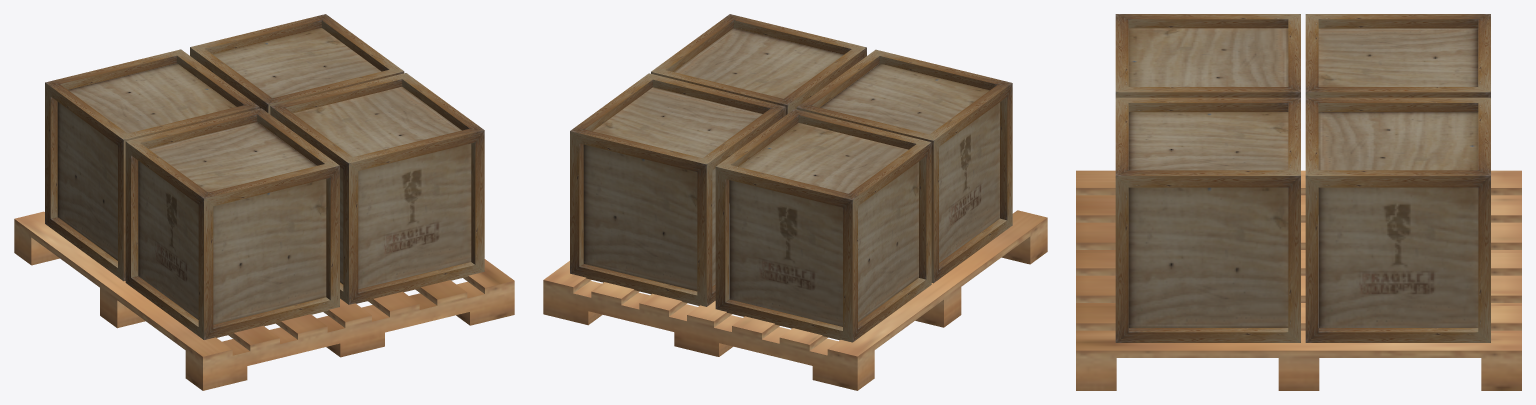
The model's file is Paleta2.fbx.
3 views of the same model, side by side, from view 1: azimuth 30°, elevation 25°; view 2: azimuth 150°, elevation 25°; view 3: azimuth 270°, elevation 25° (orthographic). The views are drawn at different scales.
Visible parts, largest first — view 1: kutu3, kutu2, kutu4, palet2, kutu; view 2: kutu4, kutu, kutu3, palet2, kutu2; view 3: kutu, kutu2, palet2, kutu3, kutu4.
Part boxes in pixels (x1,y1,x2,y2): kutu3: (125,108,339,339); kutu2: (270,73,484,304); kutu4: (45,49,259,281); palet2: (14,211,514,390); kutu: (190,14,404,114); kutu4: (715,109,931,342); kutu: (570,73,785,306); kutu3: (796,49,1012,283); palet2: (543,210,1047,390); kutu2: (651,14,866,114); kutu: (1305,97,1490,342); kutu2: (1115,97,1300,342); palet2: (1076,170,1521,390); kutu3: (1115,14,1300,97); kutu4: (1305,14,1490,97).
Size of the model in its own units: 459 by 247 by 481.
Materials: 2 (2 with a texture image).
